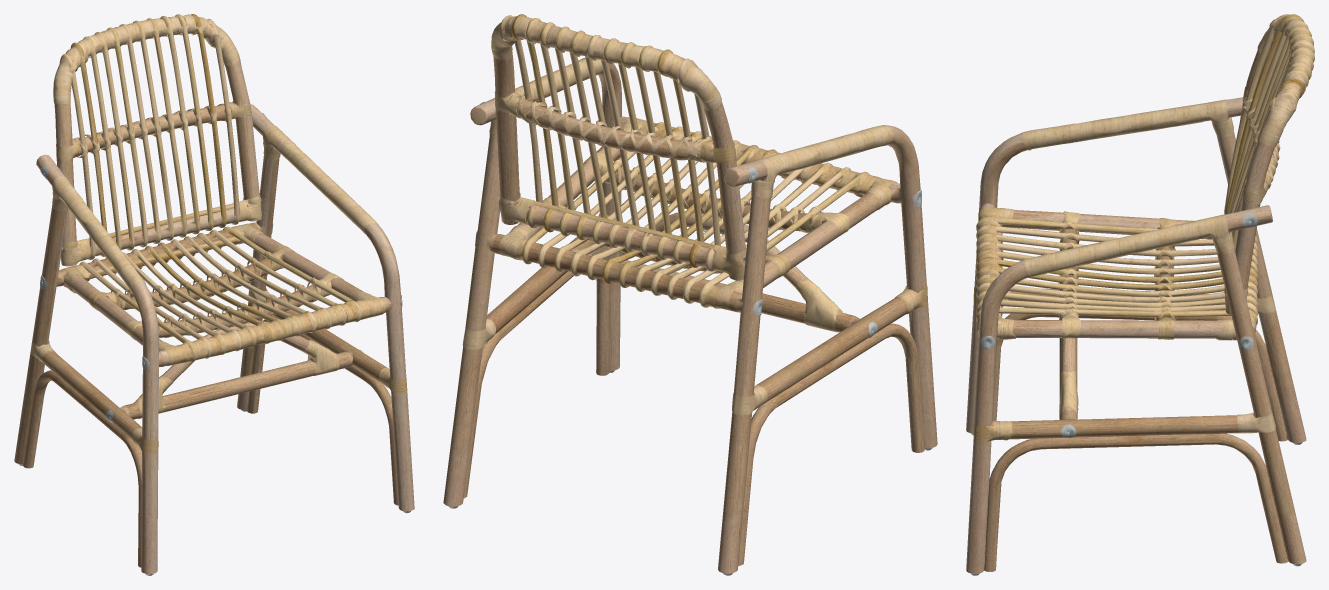
The picture shows the model from 3 angles, left to right: view 1: azimuth 30°, elevation 25°; view 2: azimuth 150°, elevation 25°; view 3: azimuth 270°, elevation 25°; orthographic projection. The views are drawn at different scales.
Parts seen in each view (by area): view 1: ASY_ART_50551202_S01_NV01; view 2: ASY_ART_50551202_S01_NV01; view 3: ASY_ART_50551202_S01_NV01.
Boxes of the visible parts, x1,y1,x2,y2 form: ASY_ART_50551202_S01_NV01: [14, 14, 414, 575]; ASY_ART_50551202_S01_NV01: [443, 14, 937, 575]; ASY_ART_50551202_S01_NV01: [966, 14, 1314, 575].
Size of the model in its own units: 0.5793 by 0.8436 by 0.5781.
1 material, 1 textured.
